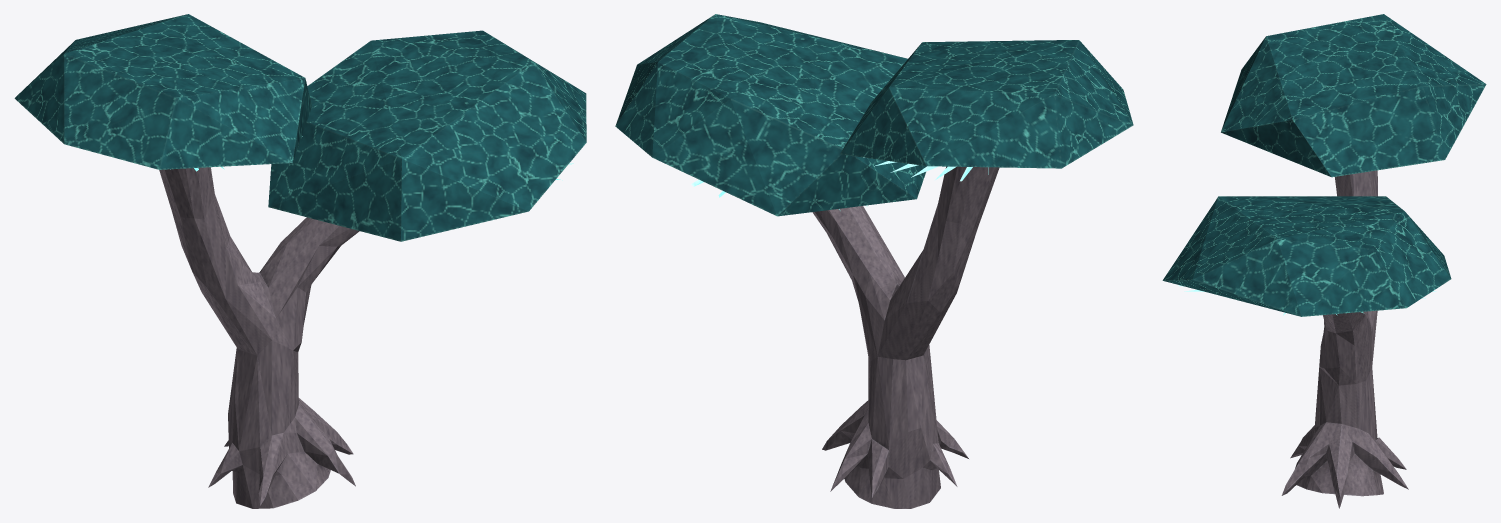
The model's file is underworld-flora-fungal-glowcap-twin.glb.
3 views of the same model, side by side, from view 1: azimuth 30°, elevation 25°; view 2: azimuth 150°, elevation 25°; view 3: azimuth 270°, elevation 25° (orthographic). The views are drawn at different scales.
Visible parts, largest first — view 1: caps, fused-stalk; view 2: caps, fused-stalk; view 3: caps, fused-stalk.
Boxes of the visible parts, x1,y1,x2,y2 form: caps: (14, 14, 586, 241); fused-stalk: (159, 167, 359, 508); caps: (615, 14, 1133, 216); fused-stalk: (812, 166, 999, 508); caps: (1162, 14, 1486, 316); fused-stalk: (1281, 170, 1408, 508).
Size of the model in its own units: 8.75 by 7.63 by 5.54.
Materials: 3 (3 with a texture image).
